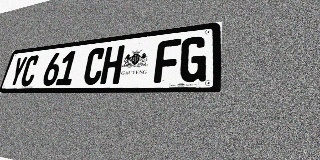1: (55, 50, 79, 86)
6: (41, 52, 64, 86)
C: (82, 47, 106, 85), (19, 55, 40, 86)
F: (153, 38, 181, 83)
G: (179, 35, 208, 82)
H: (100, 45, 125, 84)
Y: (8, 56, 28, 87)
